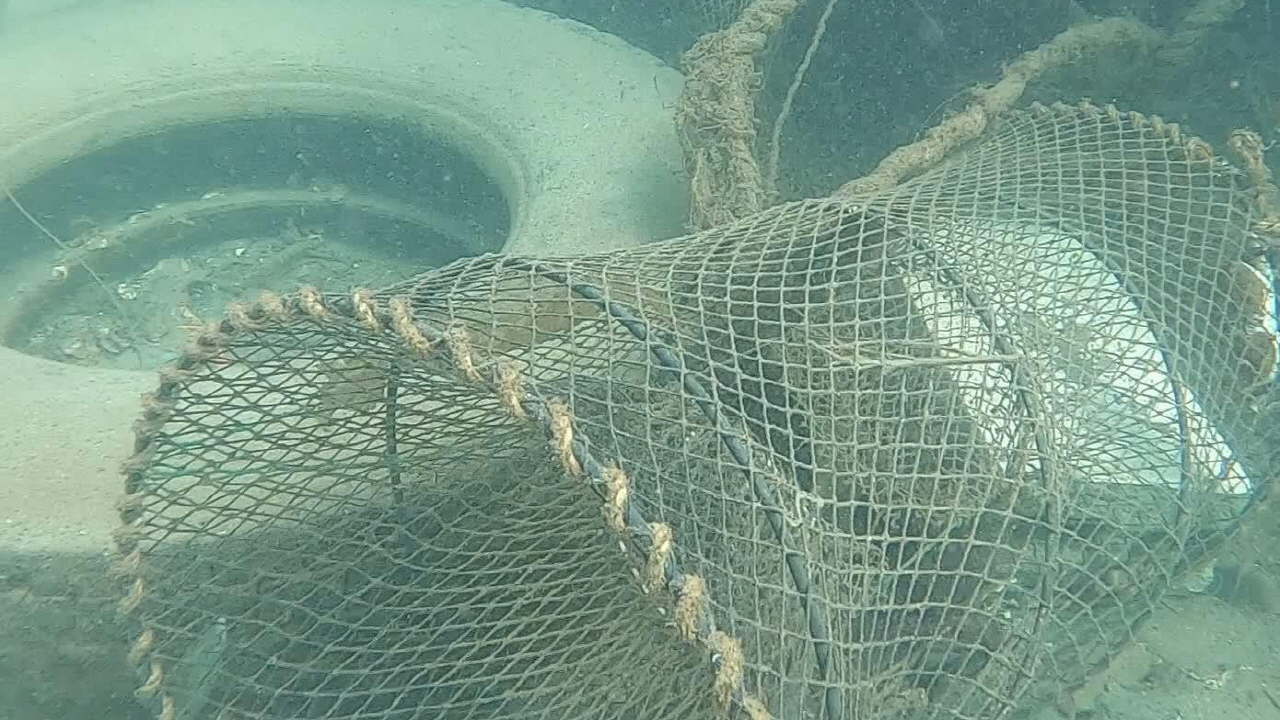bundle of ropes: (724, 0, 1237, 198)
spring fish trap: (111, 98, 1279, 720)
tire: (0, 0, 685, 720)
